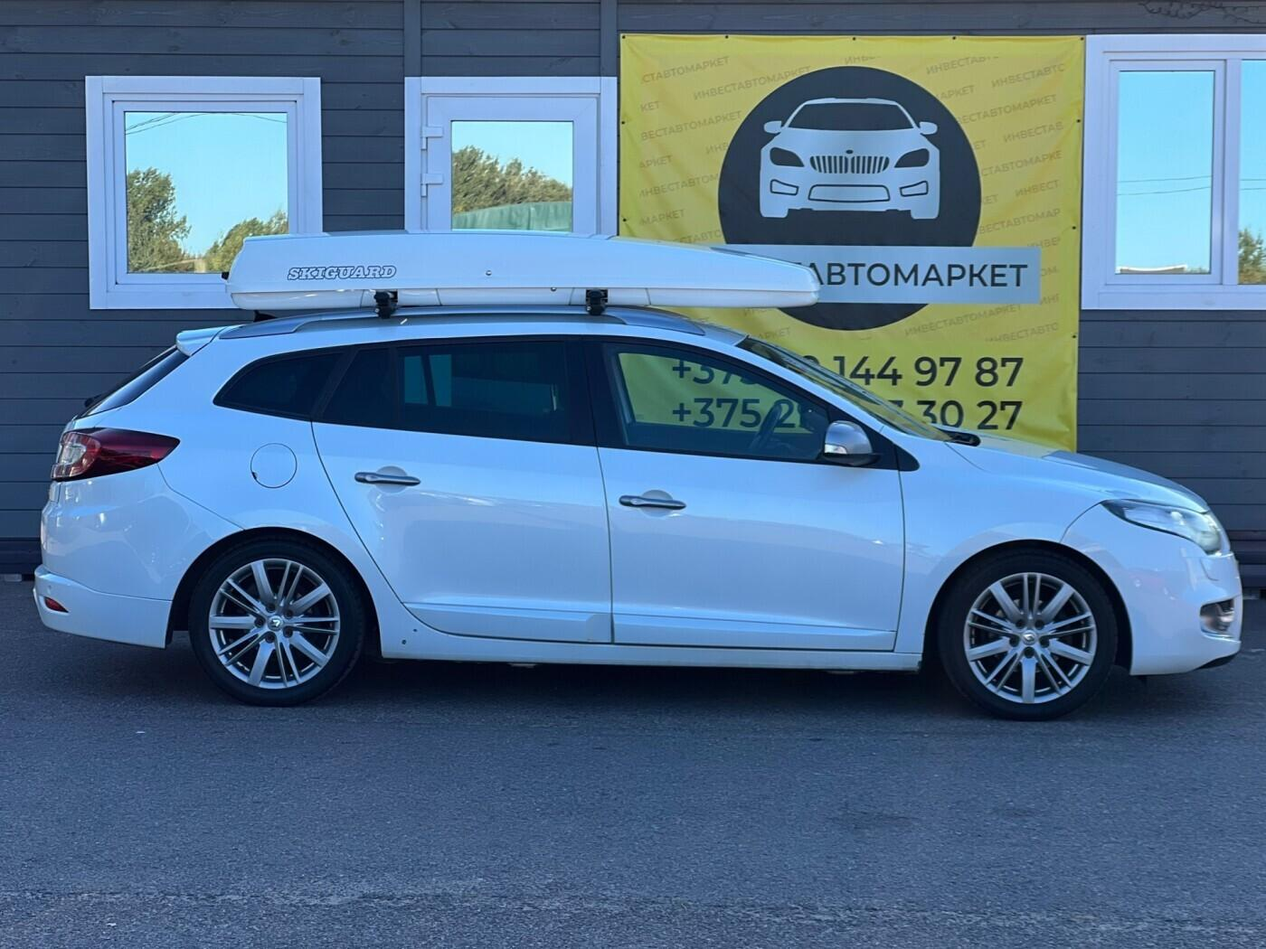Megane_2012-2014: (22, 289, 1250, 730)
